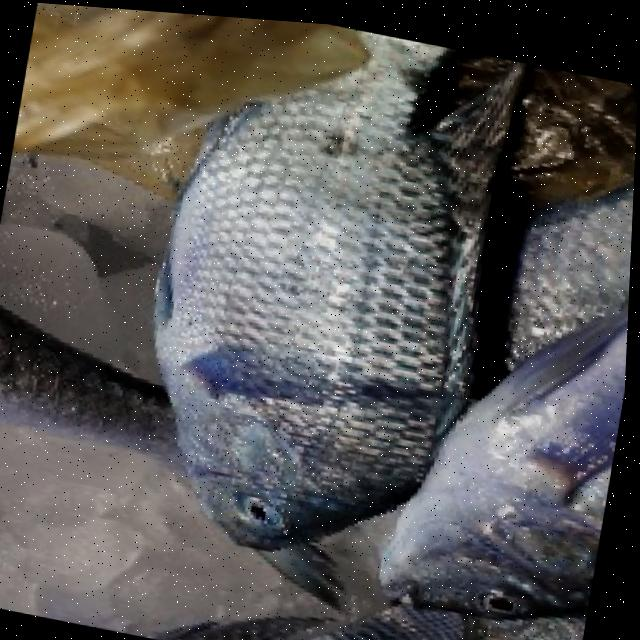Fresh: (106, 7, 562, 619), (359, 300, 630, 640)
